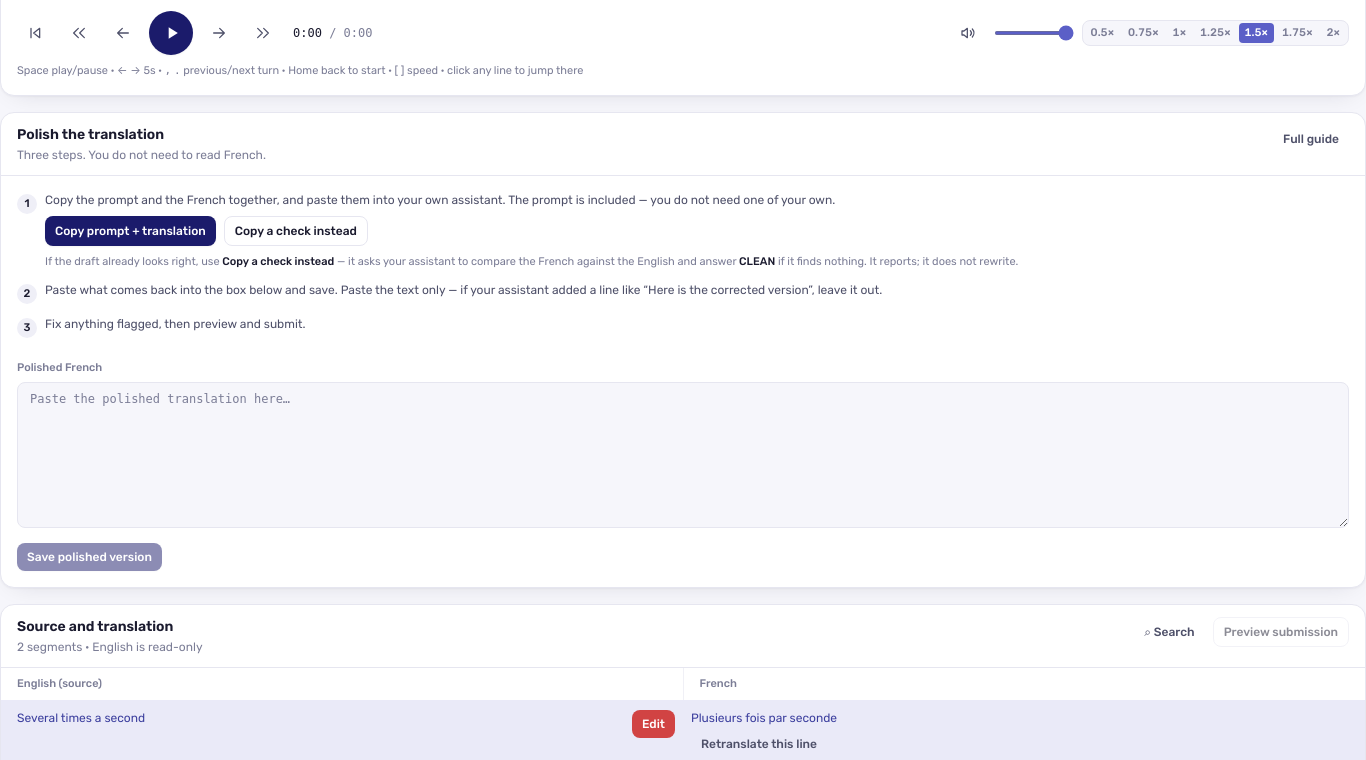
Test: the polish round trip › says so plainly when nothing was flagged
(page scrolled)
Check: the text "Plusieurs fois par seconde" is shown, box [691,710,837,726]
Type "Texte poli" into the text box labelled "Polished French" at (683, 455), box [17,382,1349,528]
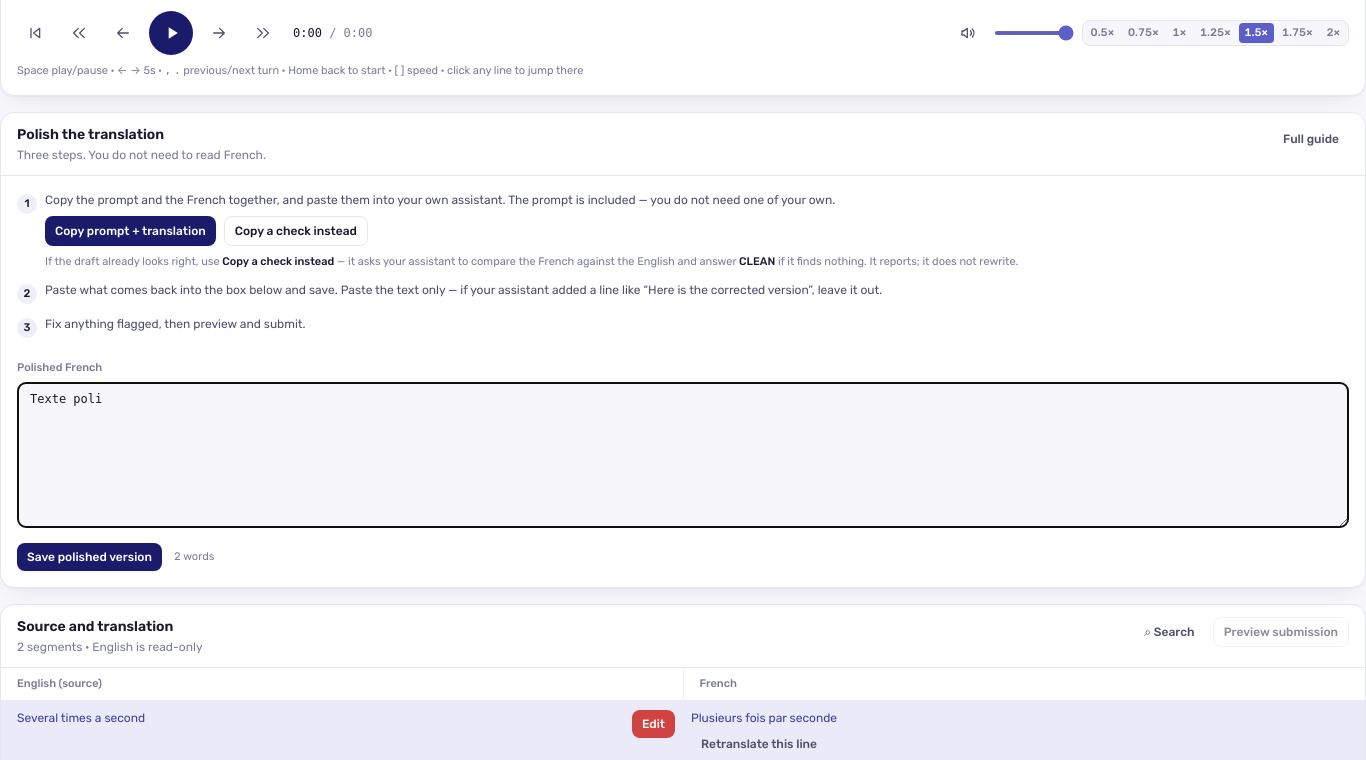
Click the button "Save polished version" at (89, 557), box [17,543,162,571]
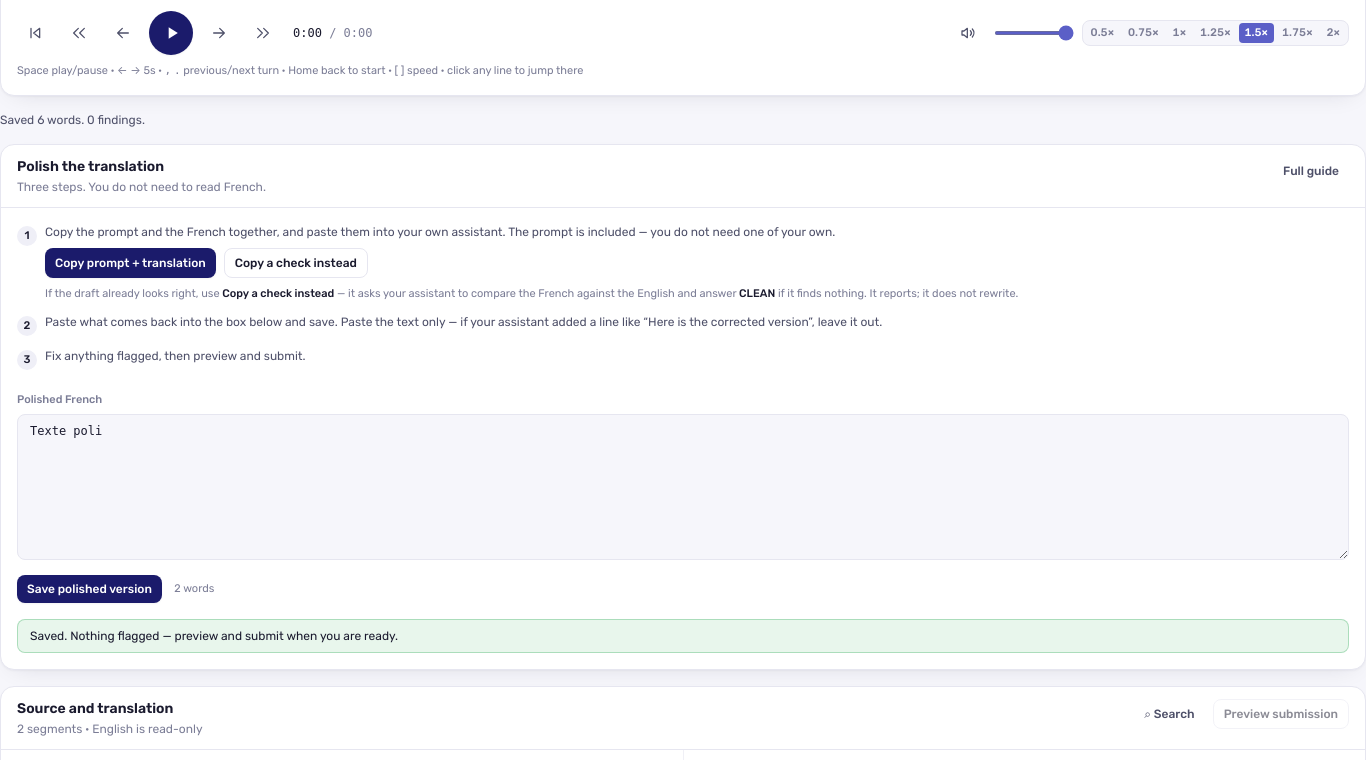
Check: the text "Nothing flagged" is shown, box [30,629,398,643]
